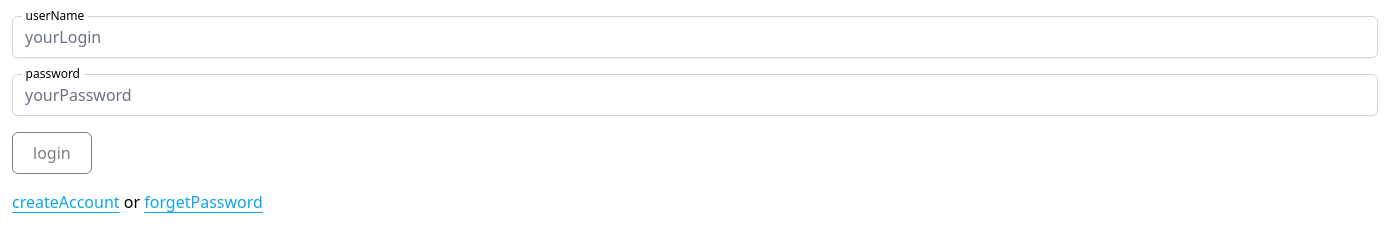
Test: Login form › Fill form
In the field labelled "userName": (695, 37) [12,16,1378,58], type "Test Username"
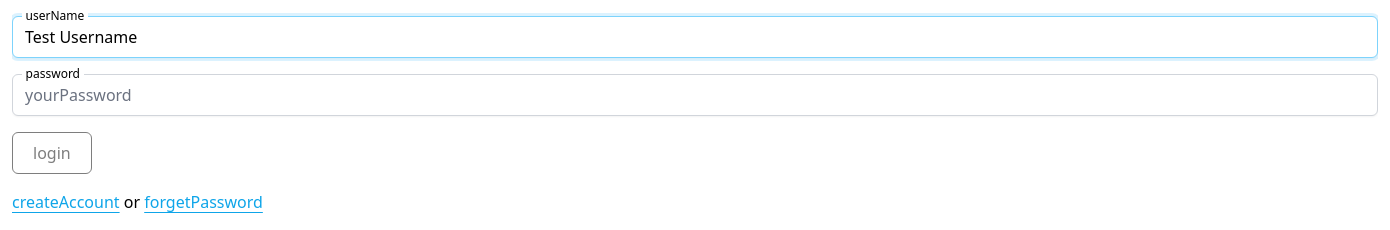
In the password field labelled "password": (695, 95) [12,74,1378,116], type "pass12345"
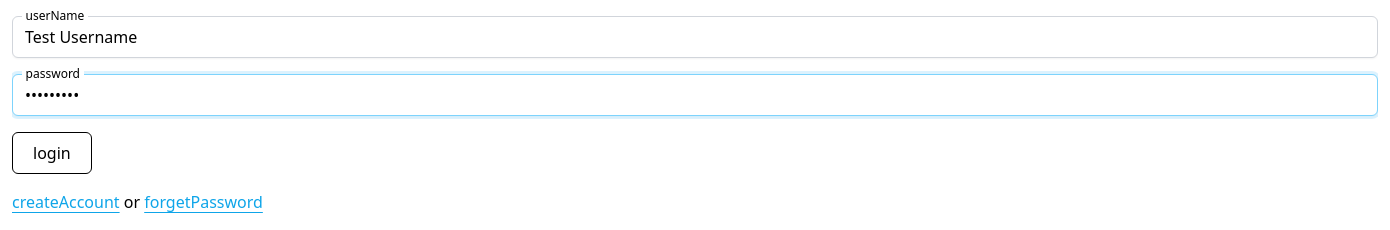
expect the button "login" is enabled: met, box [12,132,92,174]
